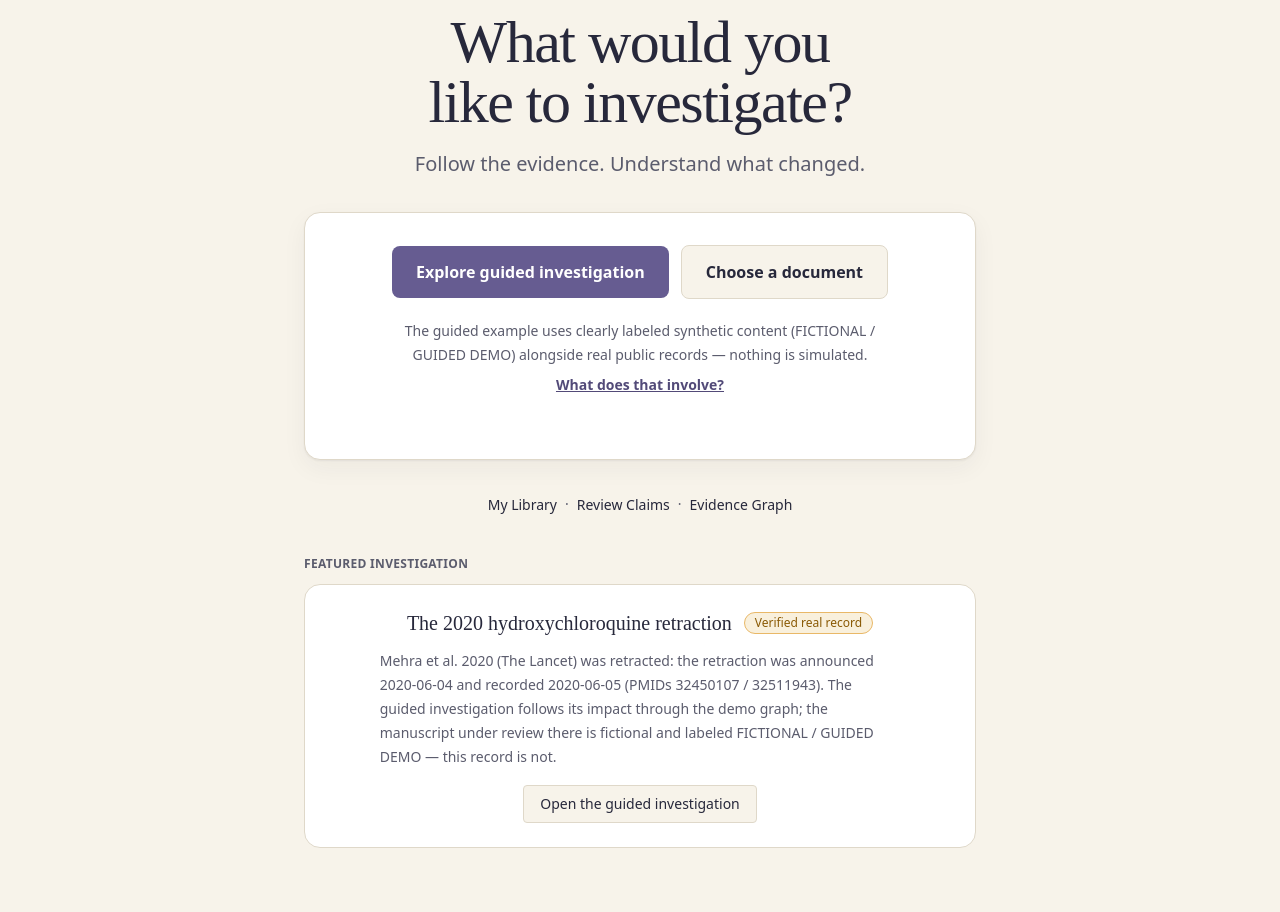
LandingPage (Wave U1 entry experience) › runs the guarded seed flow from the primary CTA and navigates to real results on success
Click the button with test id "guided-seed-button" at (530, 272), box [392,246,669,298]
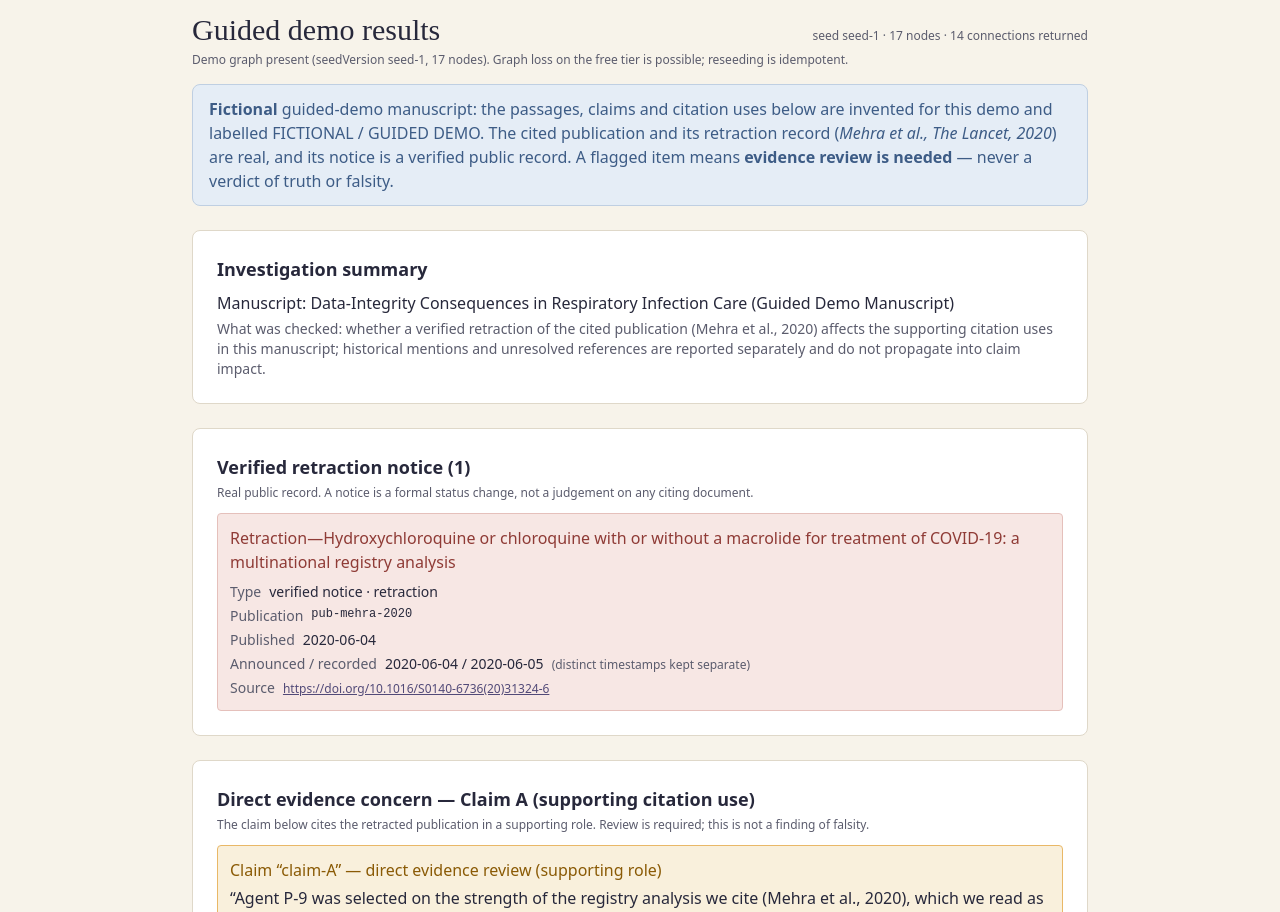
Expected: the heading "Guided demo results" is shown, [192,12,440,48]
